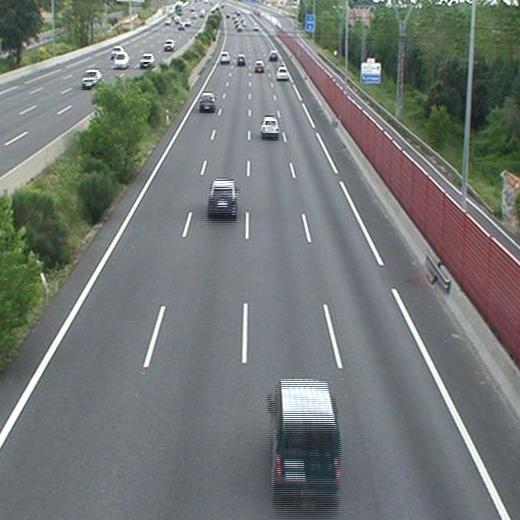car: (208, 182, 237, 215), (261, 117, 279, 137), (199, 92, 216, 109), (276, 66, 288, 79), (268, 49, 277, 61), (254, 61, 264, 71), (220, 52, 230, 62), (236, 56, 245, 66)
van: (273, 379, 340, 495)
